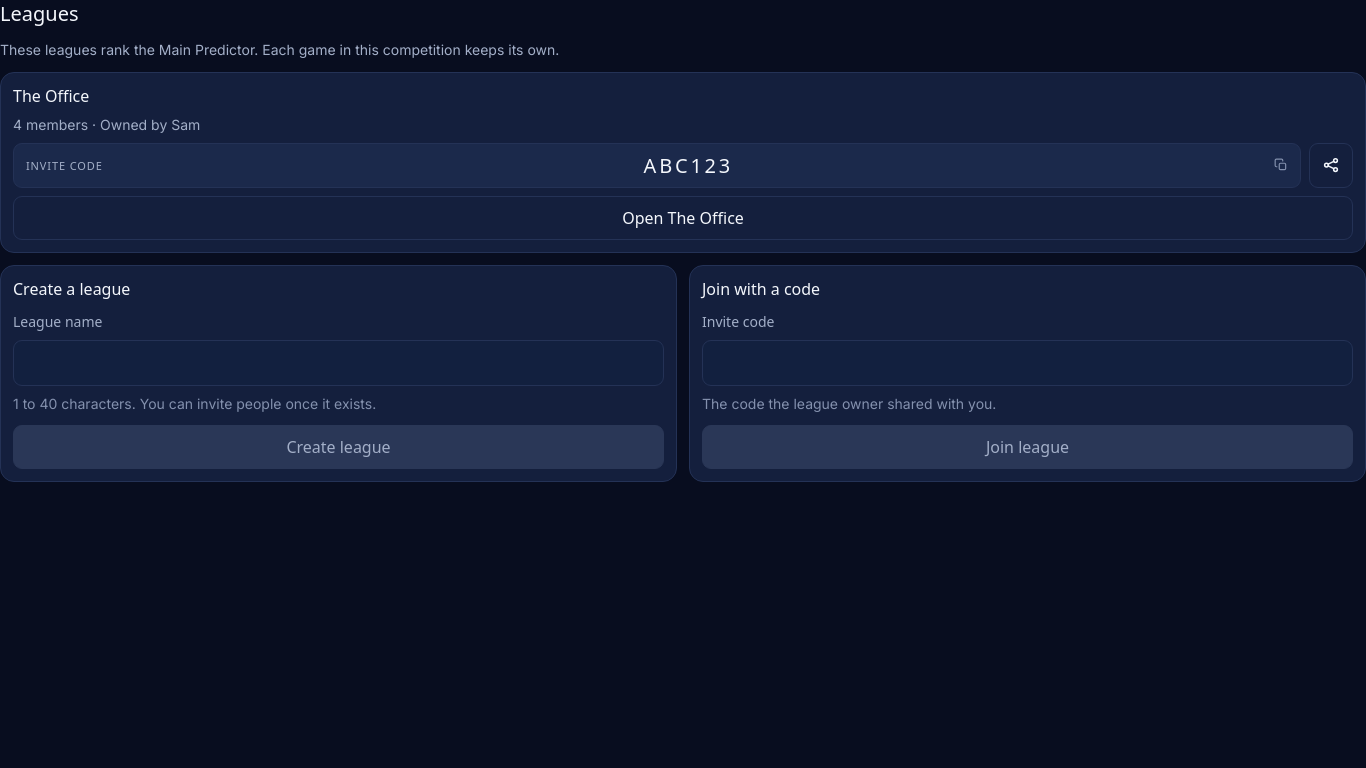
Scenario: the competition leagues surface › closes the open table when its own control is pressed again
Expected: the heading "The Office" is shown, 13,85 -> 89,107
Click the button "Open The Office": point(683, 218) 13,196 -> 1353,240
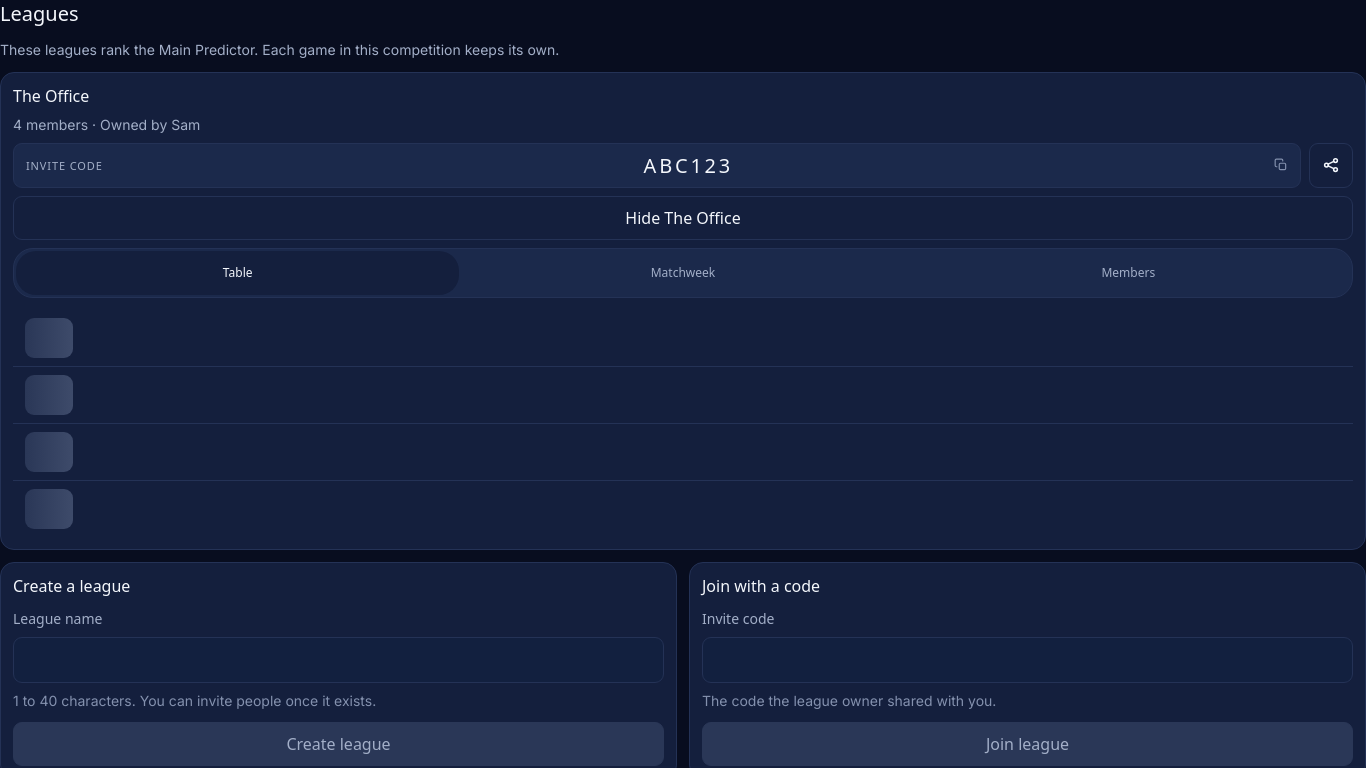
Expected: the button "Hide The Office" is expanded
Click the button "Hide The Office": point(683, 218) 13,196 -> 1353,240
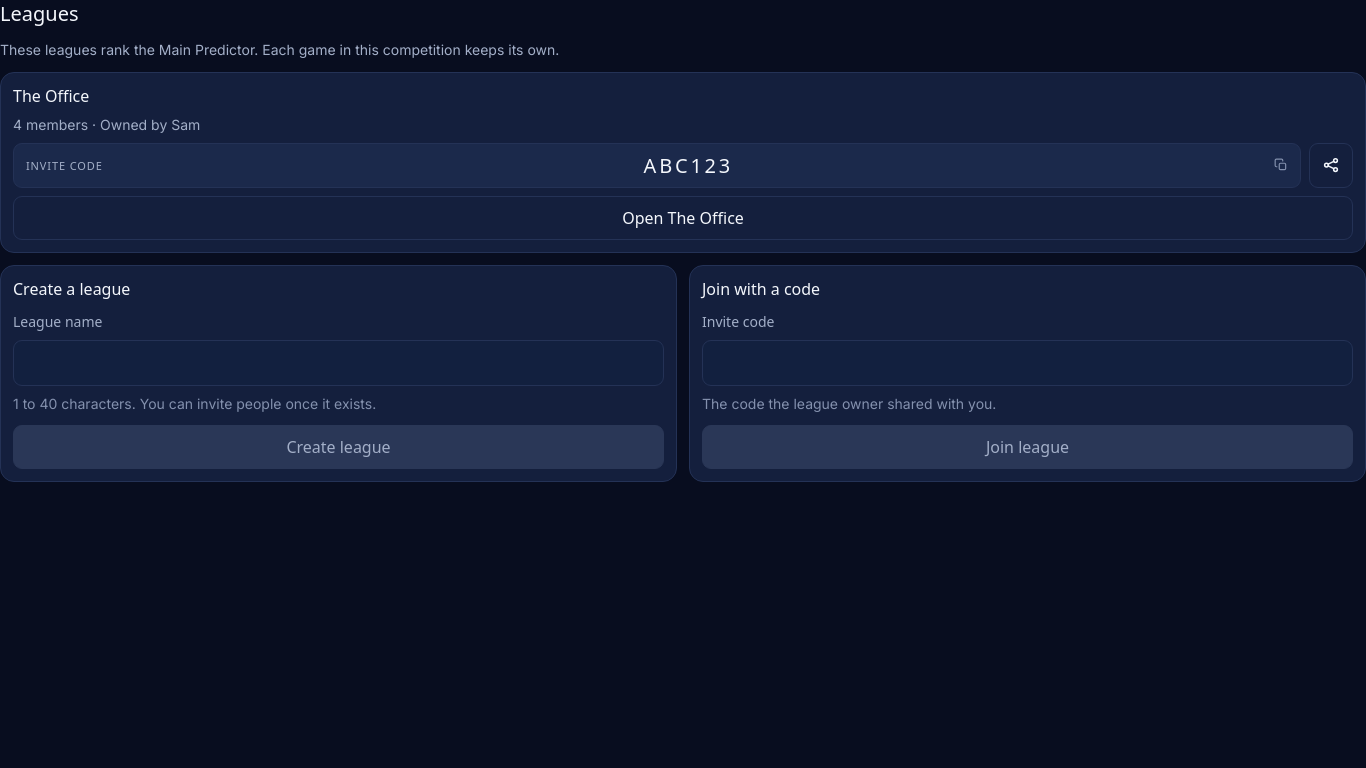
Expected: the button "Open The Office" is collapsed, 13,196 -> 1353,240
